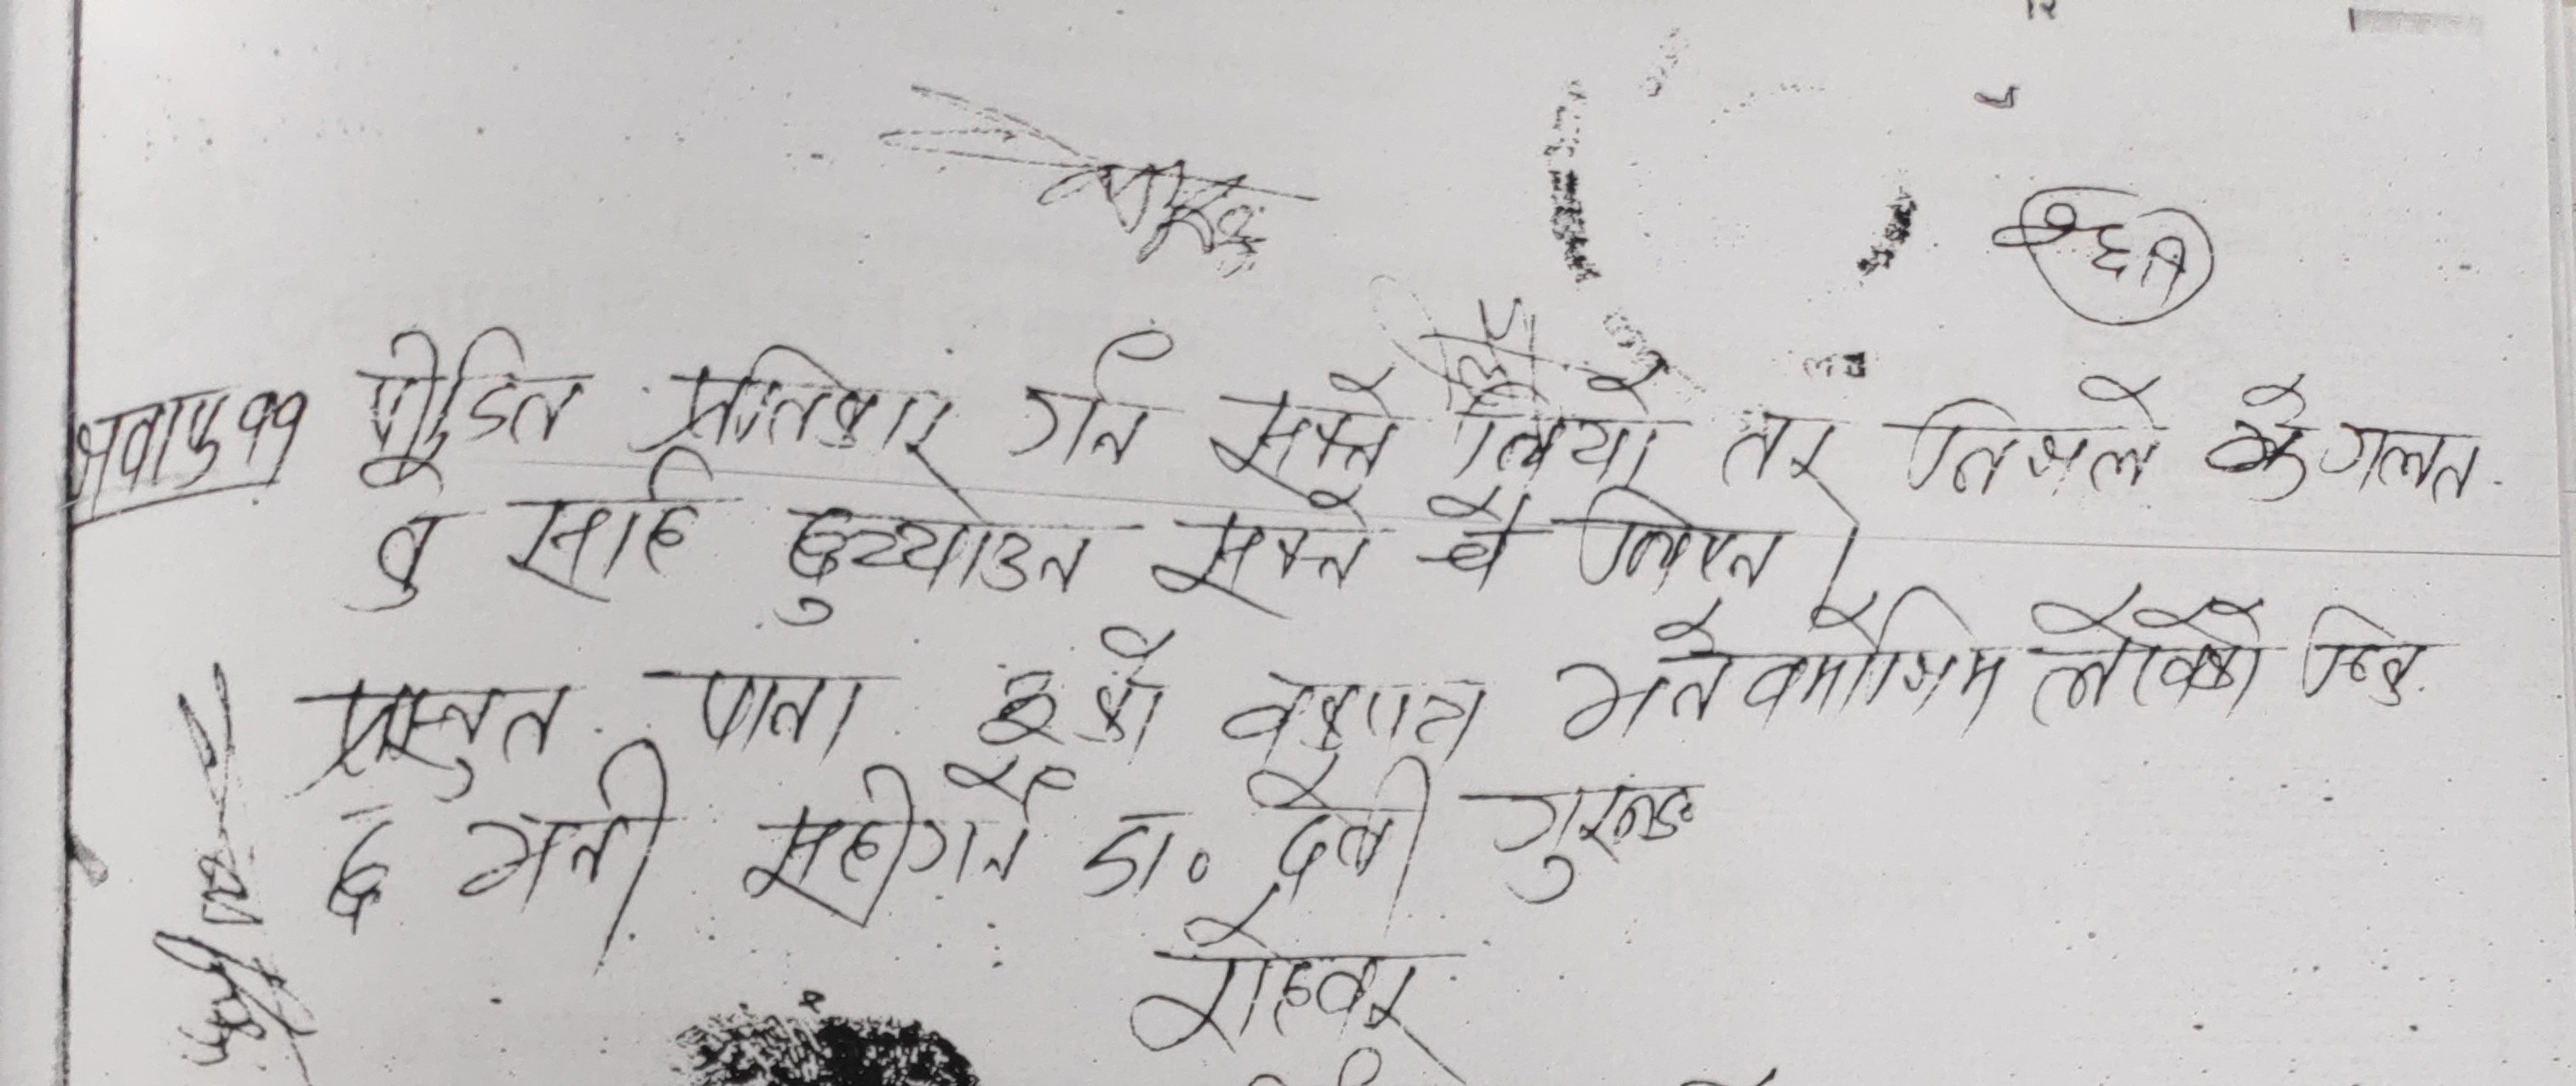text: (1551, 600, 2011, 748), (770, 455, 1091, 628), (731, 761, 1063, 922), (1120, 917, 1441, 1060), (350, 320, 586, 488), (2195, 383, 2495, 514), (2022, 587, 2274, 725), (503, 449, 720, 606), (654, 342, 953, 455), (1902, 375, 2165, 498), (319, 679, 568, 807), (966, 616, 1168, 769), (61, 383, 310, 503), (1148, 488, 1382, 616), (1460, 782, 1705, 904), (465, 792, 662, 938), (1242, 752, 1442, 894), (1559, 475, 1779, 598), (1212, 360, 1401, 501), (1214, 667, 1497, 761), (1444, 370, 1667, 485), (1000, 329, 1178, 472), (695, 669, 871, 761), (342, 460, 442, 618), (1071, 800, 1214, 907), (2295, 605, 2433, 715), (1408, 491, 1529, 603), (1717, 398, 1850, 490), (319, 815, 399, 932)
